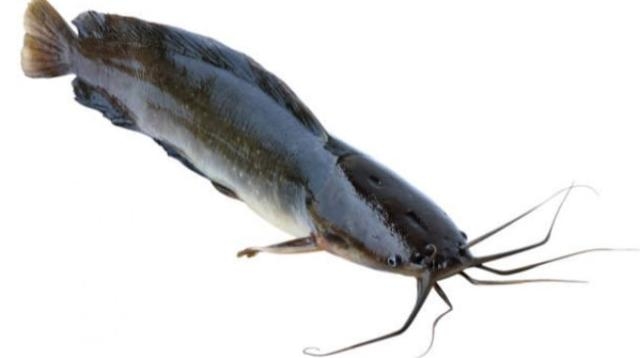Mulut: (408, 248, 499, 300)
Sirip Anal: (66, 68, 142, 141)
Sirip Dada: (228, 225, 330, 279)
Sirip Ekor: (15, 0, 84, 84)
Sirip Perut: (146, 128, 252, 206)
Sirip Punggung: (68, 3, 332, 141)
